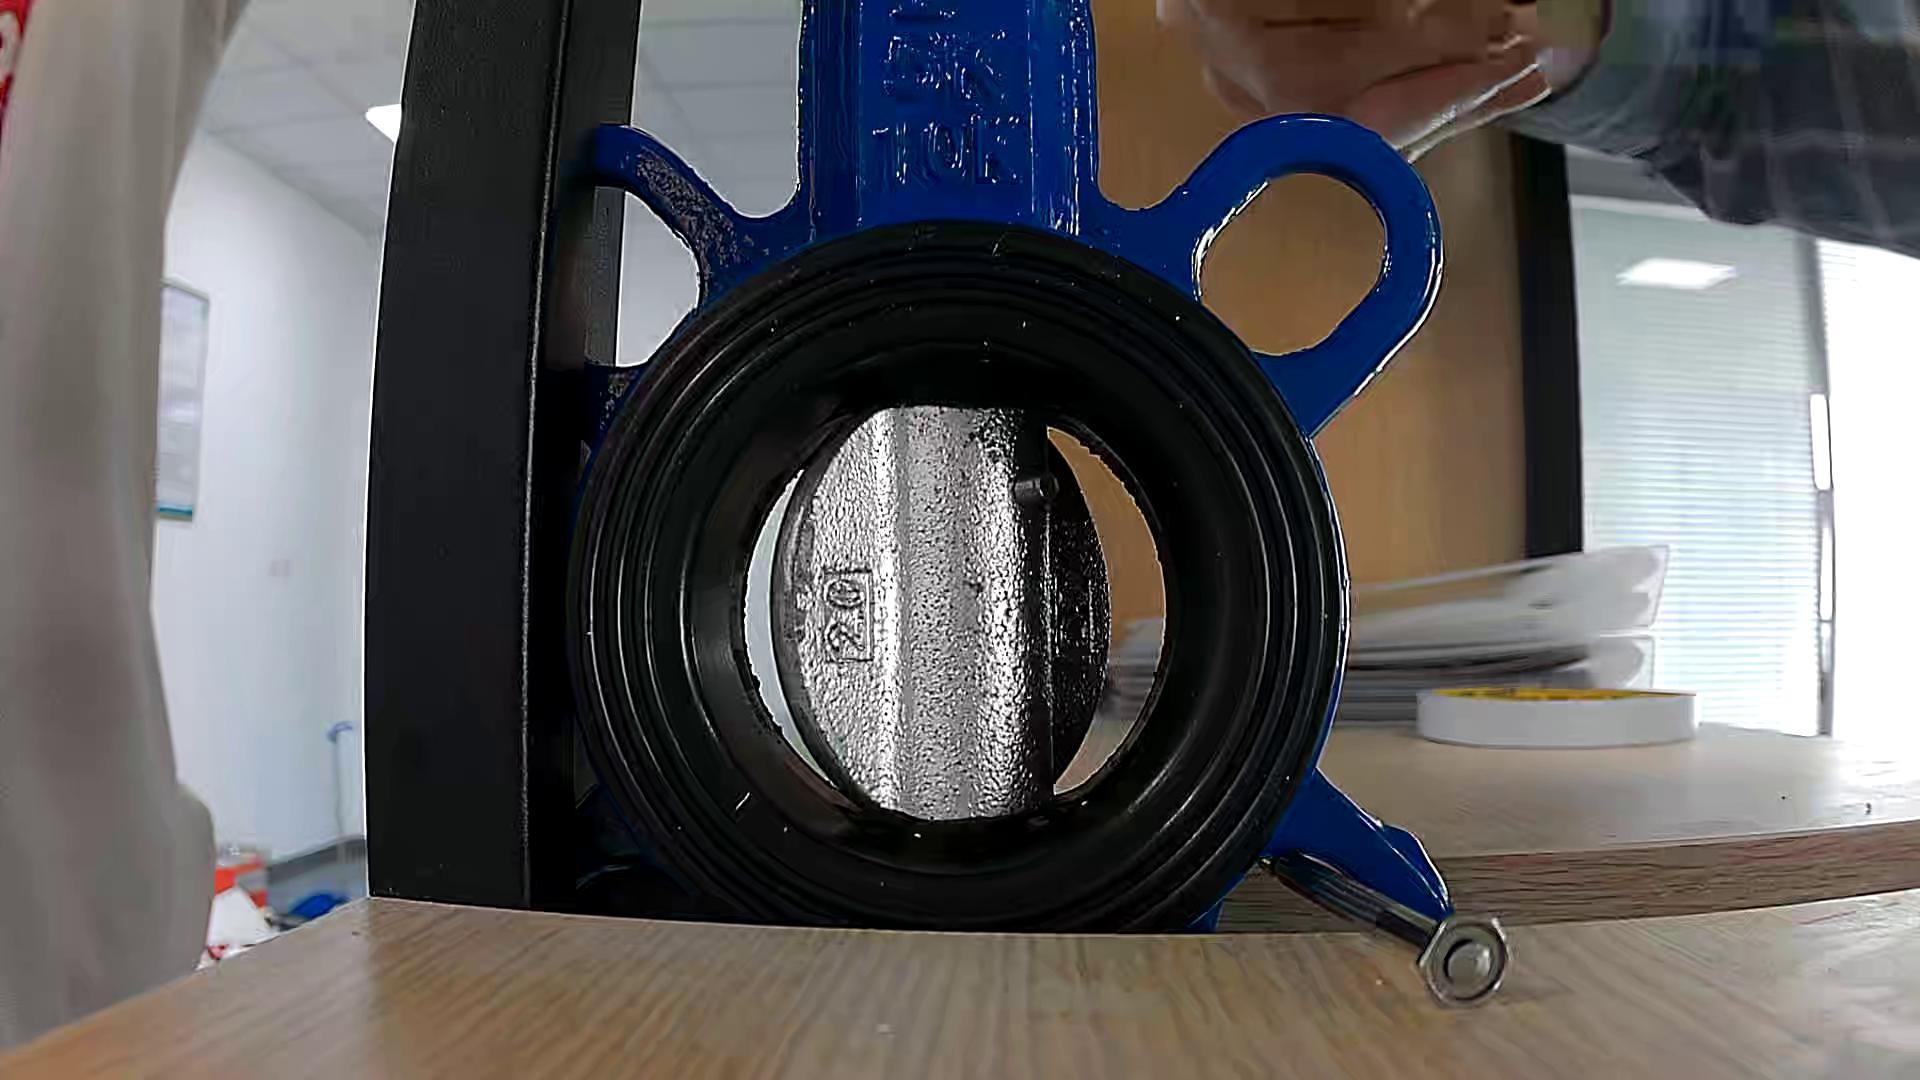valve: (770, 405, 1110, 827)
